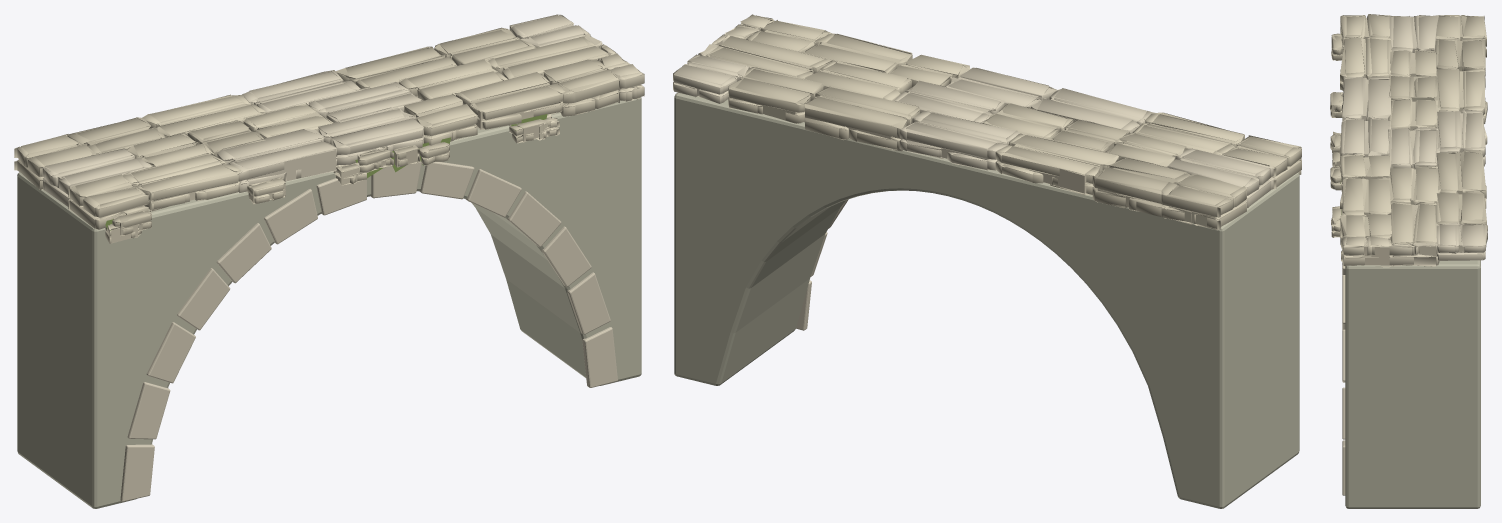
Rendered from bridge-09.glb.
3 renders of one model, left to right at view 1: azimuth 30°, elevation 25°; view 2: azimuth 150°, elevation 25°; view 3: azimuth 270°, elevation 25°, orthographic. The views are drawn at different scales.
Parts seen in each view (by area): view 1: Continuous arch foundation.008, CC0 worn paving.138, CC0 worn paving.137, CC0 worn paving.141, CC0 worn paving.139, CC0 worn paving.142, CC0 worn paving.136, CC0 worn paving.144, CC0 worn paving.154, CC0 worn paving.156, CC0 worn paving.155, CC0 worn paving.150 (+27 smaller); view 2: Continuous arch foundation.008, CC0 worn paving.156, CC0 worn paving.154, CC0 worn paving.155, CC0 worn paving.153, CC0 worn paving.157, CC0 worn paving.152, CC0 worn paving.144, CC0 worn paving.138, CC0 worn paving.150, CC0 worn paving.137, CC0 worn paving.148 (+10 smaller); view 3: Continuous arch foundation.008, CC0 worn paving.154, CC0 worn paving.155, CC0 worn paving.137, CC0 worn paving.138, CC0 worn paving.156, CC0 worn paving.148, CC0 worn paving.150, CC0 worn paving.158, CC0 worn paving.139, CC0 worn paving.141, CC0 worn paving.149 (+19 smaller).
Part boxes in pixels (x1,y1,x2,y2): Continuous arch foundation.008: [17, 97, 641, 508]; CC0 worn paving.138: [217, 129, 337, 192]; CC0 worn paving.137: [122, 152, 241, 211]; CC0 worn paving.141: [454, 72, 566, 129]; CC0 worn paving.139: [318, 107, 423, 165]; CC0 worn paving.142: [543, 59, 619, 116]; CC0 worn paving.136: [68, 174, 148, 229]; CC0 worn paving.144: [42, 148, 152, 206]; CC0 worn paving.154: [141, 94, 265, 138]; CC0 worn paving.156: [335, 46, 457, 89]; CC0 worn paving.155: [242, 70, 361, 113]; CC0 worn paving.150: [485, 36, 608, 79]; Continuous arch foundation.008: [674, 92, 1299, 508]; CC0 worn paving.156: [805, 86, 919, 151]; CC0 worn paving.154: [995, 134, 1118, 195]; CC0 worn paving.155: [899, 110, 1020, 170]; CC0 worn paving.153: [1092, 158, 1190, 217]; CC0 worn paving.157: [728, 67, 824, 123]; CC0 worn paving.152: [1163, 174, 1246, 230]; CC0 worn paving.144: [1167, 148, 1275, 207]; CC0 worn paving.138: [1031, 88, 1157, 133]; CC0 worn paving.150: [706, 36, 831, 78]; CC0 worn paving.137: [1129, 112, 1244, 155]; CC0 worn paving.148: [893, 80, 1004, 123]; Continuous arch foundation.008: [1345, 260, 1480, 508]; CC0 worn paving.154: [1435, 68, 1487, 123]; CC0 worn paving.155: [1436, 109, 1487, 166]; CC0 worn paving.137: [1340, 36, 1392, 90]; CC0 worn paving.138: [1342, 76, 1390, 121]; CC0 worn paving.156: [1436, 150, 1486, 208]; CC0 worn paving.148: [1388, 127, 1439, 169]; CC0 worn paving.150: [1389, 201, 1438, 252]; CC0 worn paving.158: [1436, 222, 1487, 260]; CC0 worn paving.139: [1340, 117, 1391, 157]; CC0 worn paving.141: [1340, 177, 1391, 215]; CC0 worn paving.149: [1389, 166, 1439, 205].
Size of the model in its own units: 9 by 4.78 by 2.58.
